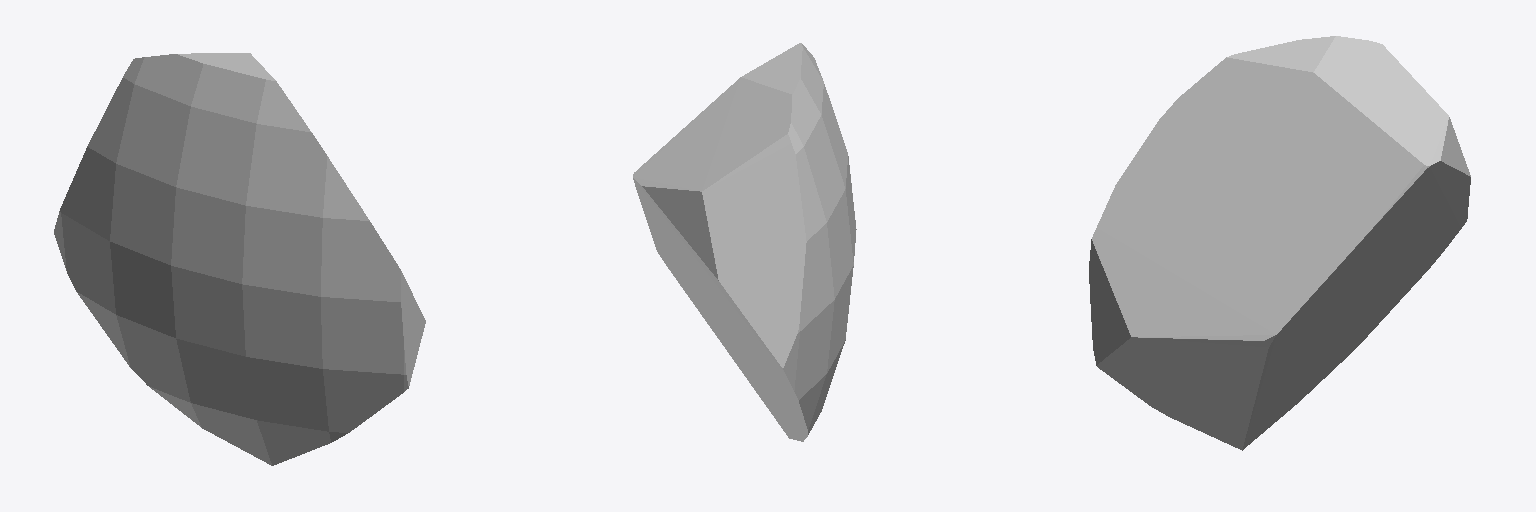
Rendered from Sphere_Cell_Fracture4.obj.
The picture shows the model from 3 angles: view 1: azimuth 30°, elevation 25°; view 2: azimuth 150°, elevation 25°; view 3: azimuth 270°, elevation 25°; orthographic projection.
Bounding box in the file's own units: 0.6134 × 1.01 × 0.8947.